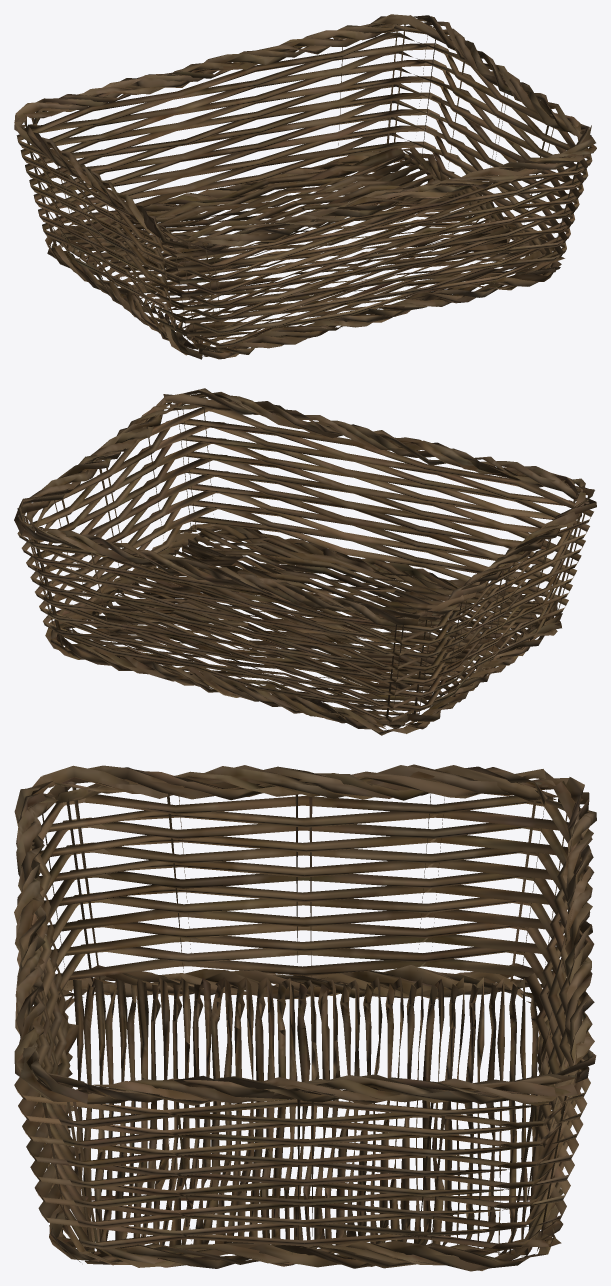
Rendered from wicker_basket_01.glb.
3 views of the same model, one above another, from view 1: azimuth 30°, elevation 25°; view 2: azimuth 150°, elevation 25°; view 3: azimuth 270°, elevation 25° (orthographic). The views are drawn at different scales.
Visible parts, largest first — view 1: wicker_basket_01; view 2: wicker_basket_01; view 3: wicker_basket_01.
Boxes of the visible parts, x1,y1,x2,y2 form: wicker_basket_01: (14, 14, 596, 359); wicker_basket_01: (14, 388, 596, 735); wicker_basket_01: (14, 764, 596, 1271).
Size of the model in its own units: 0.3843 by 0.1187 by 0.2931.
Materials: 1 (1 with a texture image).
